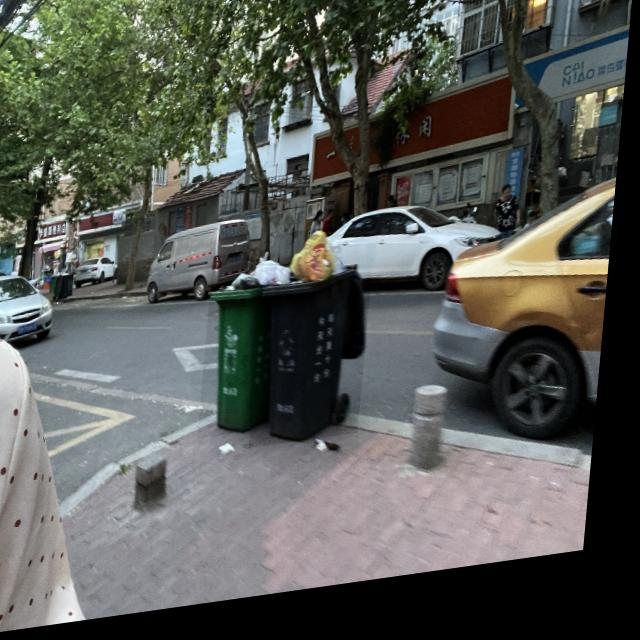overflow: (258, 232, 382, 457), (206, 255, 298, 445)
